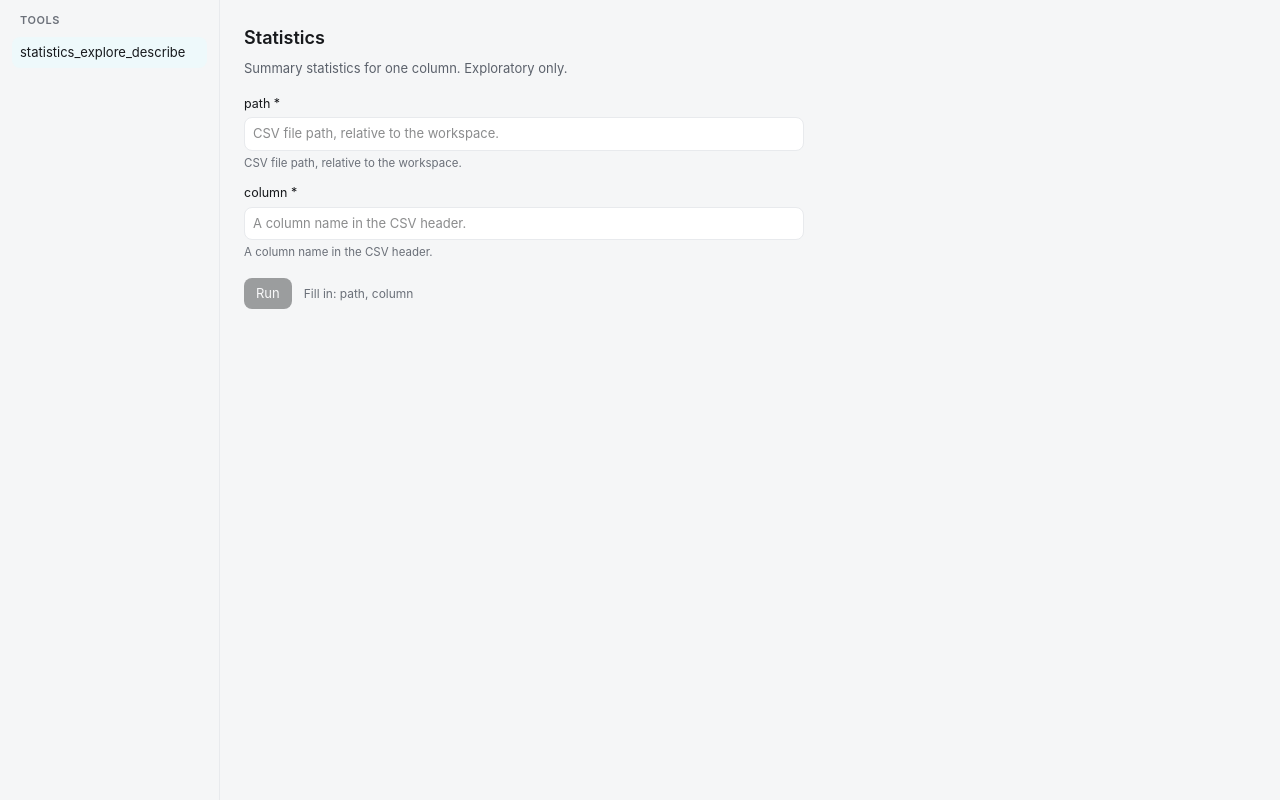
Scenario: StatisticsView › runs a tool with its filled arguments in the open workspace and shows the result
This screenshot has width=1280, height=800.
Expected: the button "statistics_explore_describe" is shown, [12,36,207,68]
Expected: the button "Run" is disabled, [244,278,292,309]
Type "profiles.csv" into the field labelled "path * CSV file path, relative to the workspace." at (524, 134), box [244,117,804,151]
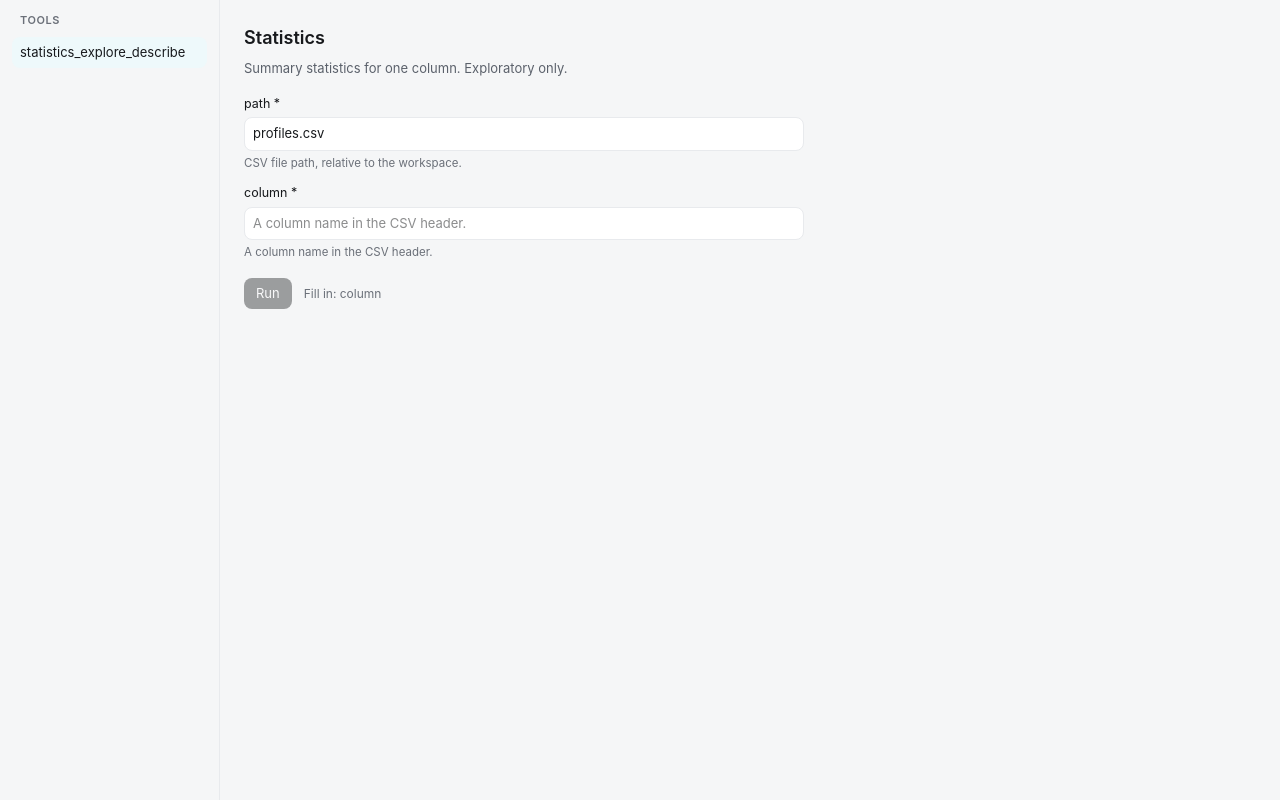
Type "value" into the field labelled "column * A column name in the CSV header." at (524, 224), box [244,207,804,240]
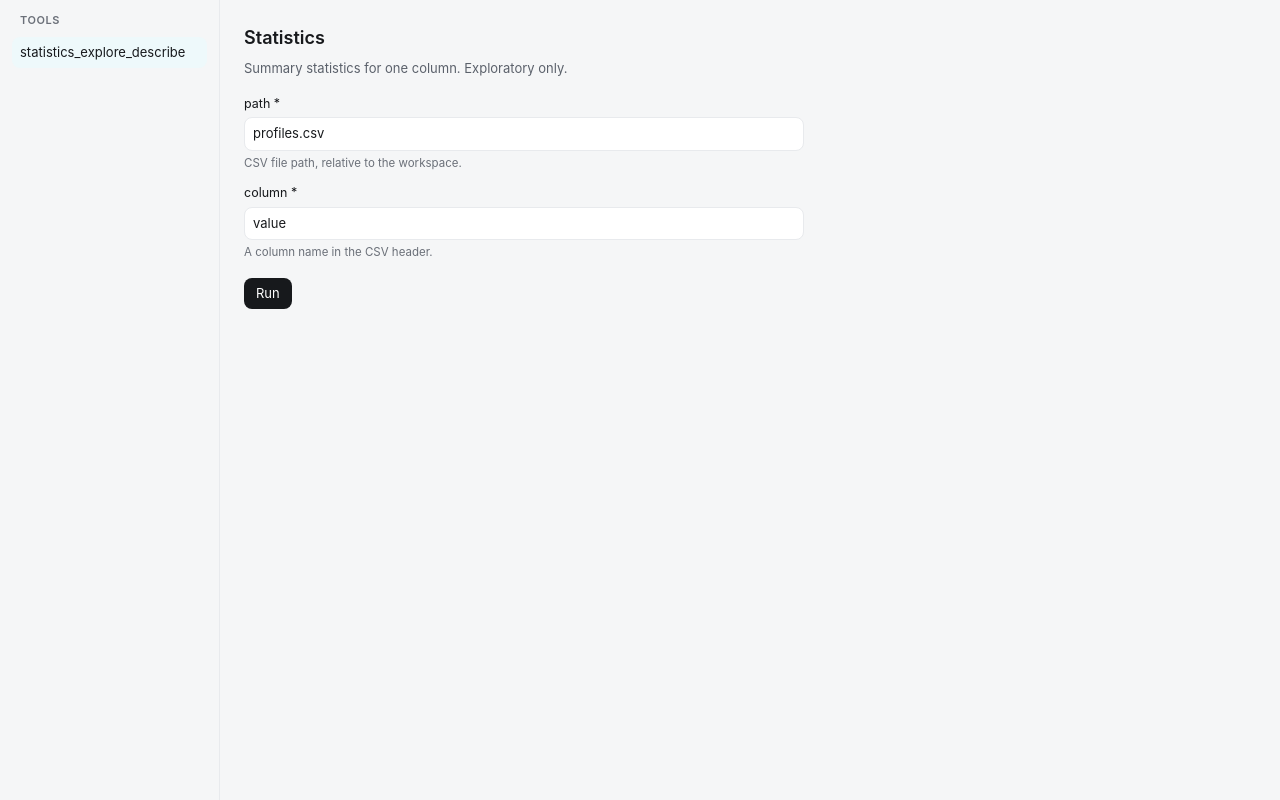
Now the button "Run" is enabled
Click the button "Run" at (268, 293), box [244,278,292,309]
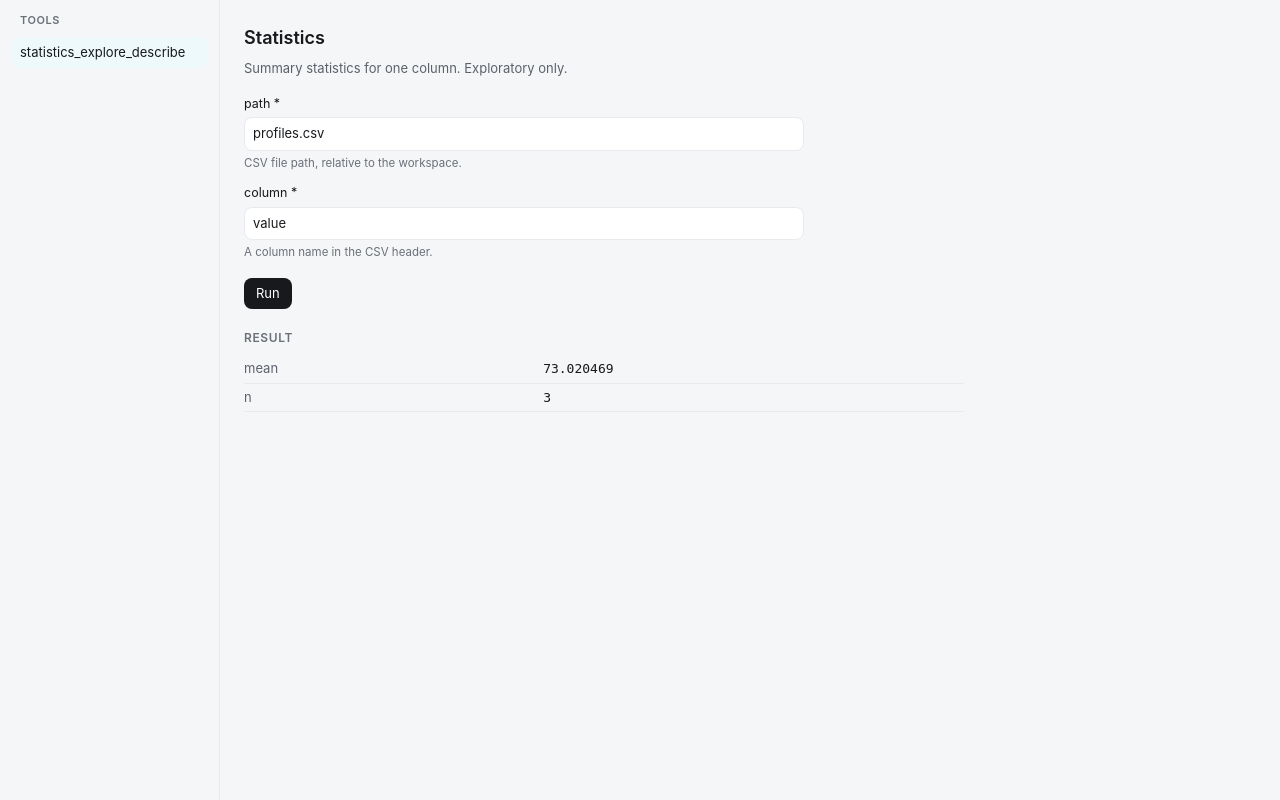
Now the element with test id "statistics-result" is shown, box [244,329,964,412]
Now the text "73.020469" is shown, box [543,355,964,383]
Now the text "3" is shown, box [543,383,964,412]
